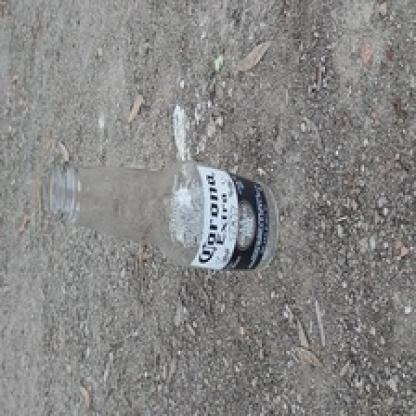Can: (36, 158, 281, 272)
